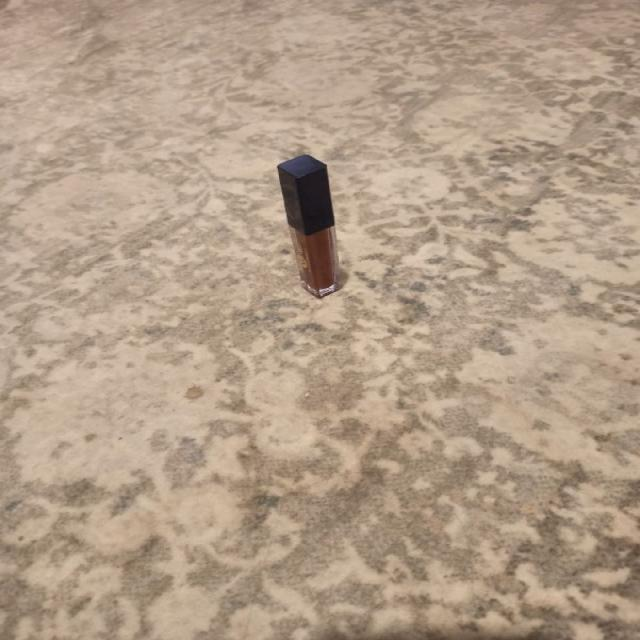lipstick: (276, 154, 338, 298)
